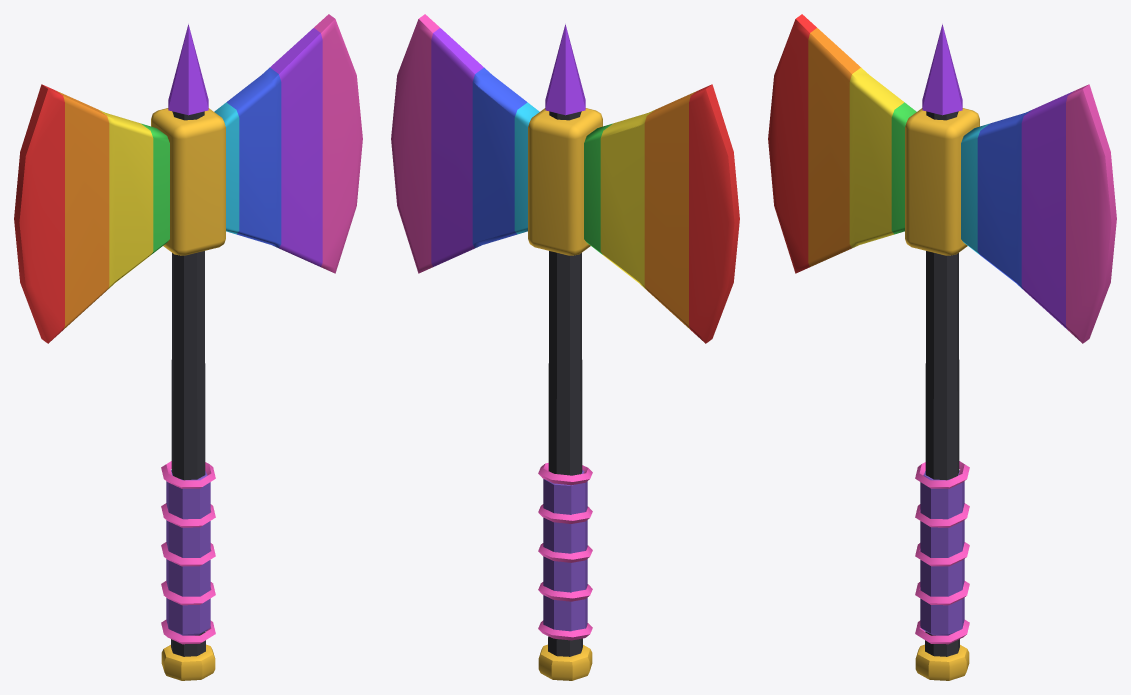
File: RainbowBattleAxe.fbx
The picture shows the model from 3 angles, left to right: view 1: azimuth 30°, elevation 25°; view 2: azimuth 150°, elevation 25°; view 3: azimuth 330°, elevation 25°; orthographic projection.
Visible parts, largest first — view 1: RainbowBattleAxe; view 2: RainbowBattleAxe; view 3: RainbowBattleAxe.
Boxes of the visible parts, x1=… form: RainbowBattleAxe: x1=14, y1=14, x2=362, y2=680; RainbowBattleAxe: x1=391, y1=14, x2=739, y2=680; RainbowBattleAxe: x1=768, y1=14, x2=1116, y2=680.
Size of the model in its own units: 2.2 by 3.97 by 0.34.
Materials: 1 (1 with a texture image).
